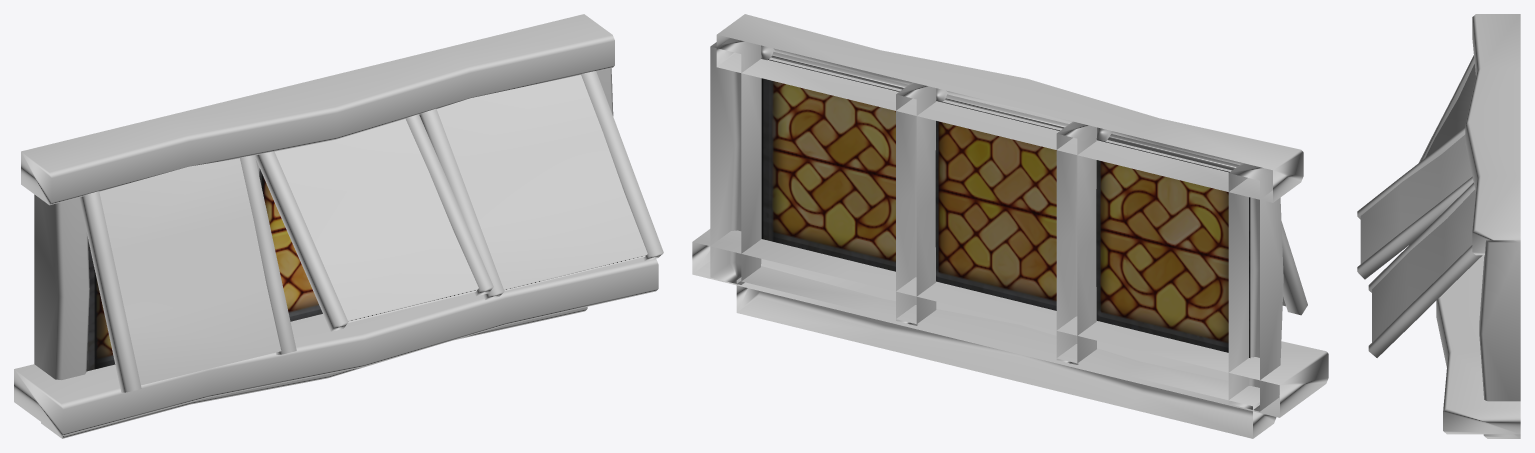
File: WindowD.fbx
The picture shows the model from 3 angles, left to right: view 1: azimuth 30°, elevation 25°; view 2: azimuth 150°, elevation 25°; view 3: azimuth 270°, elevation 25°; orthographic projection. The views are drawn at different scales.
Parts seen in each view (by area): view 1: Mesh; view 2: Mesh; view 3: Mesh.
Part boxes in pixels (box(x1,y1,x2,y2)): Mesh: box(14, 14, 663, 438); Mesh: box(692, 14, 1328, 438); Mesh: box(1357, 14, 1520, 438).
Size of the model in its own units: 209 by 92.99 by 63.39.
Materials: 3 (1 with a texture image).
